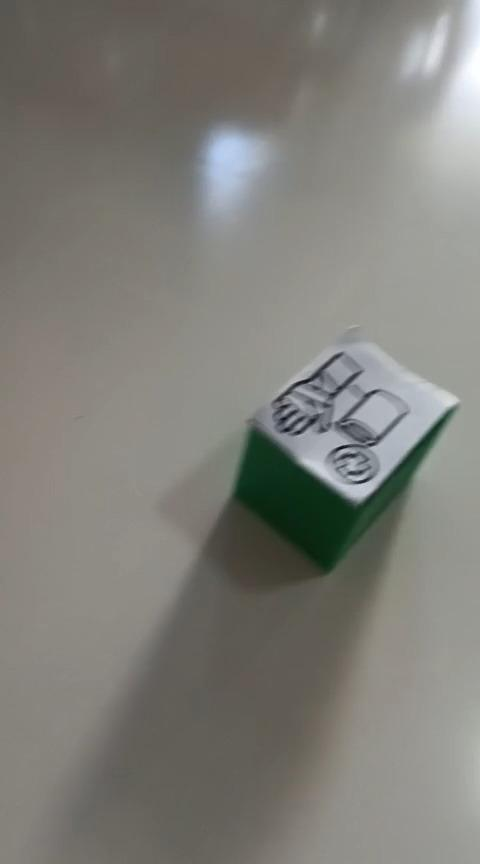Bandages: (231, 323, 460, 574)
